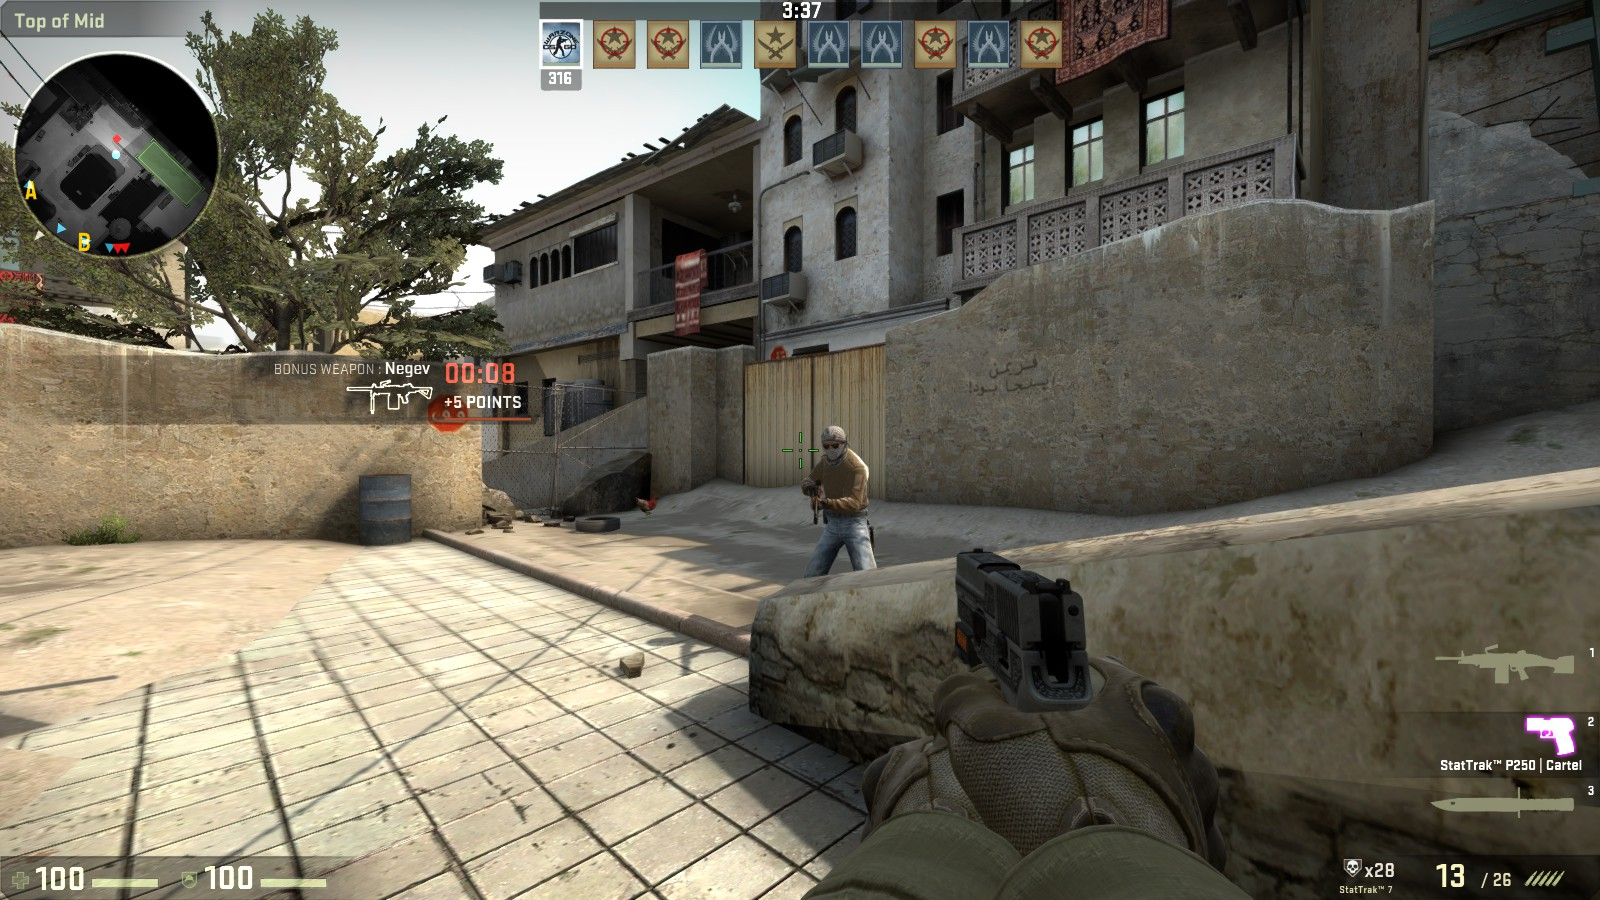t: (804, 424, 877, 579)
th: (818, 422, 851, 463)
